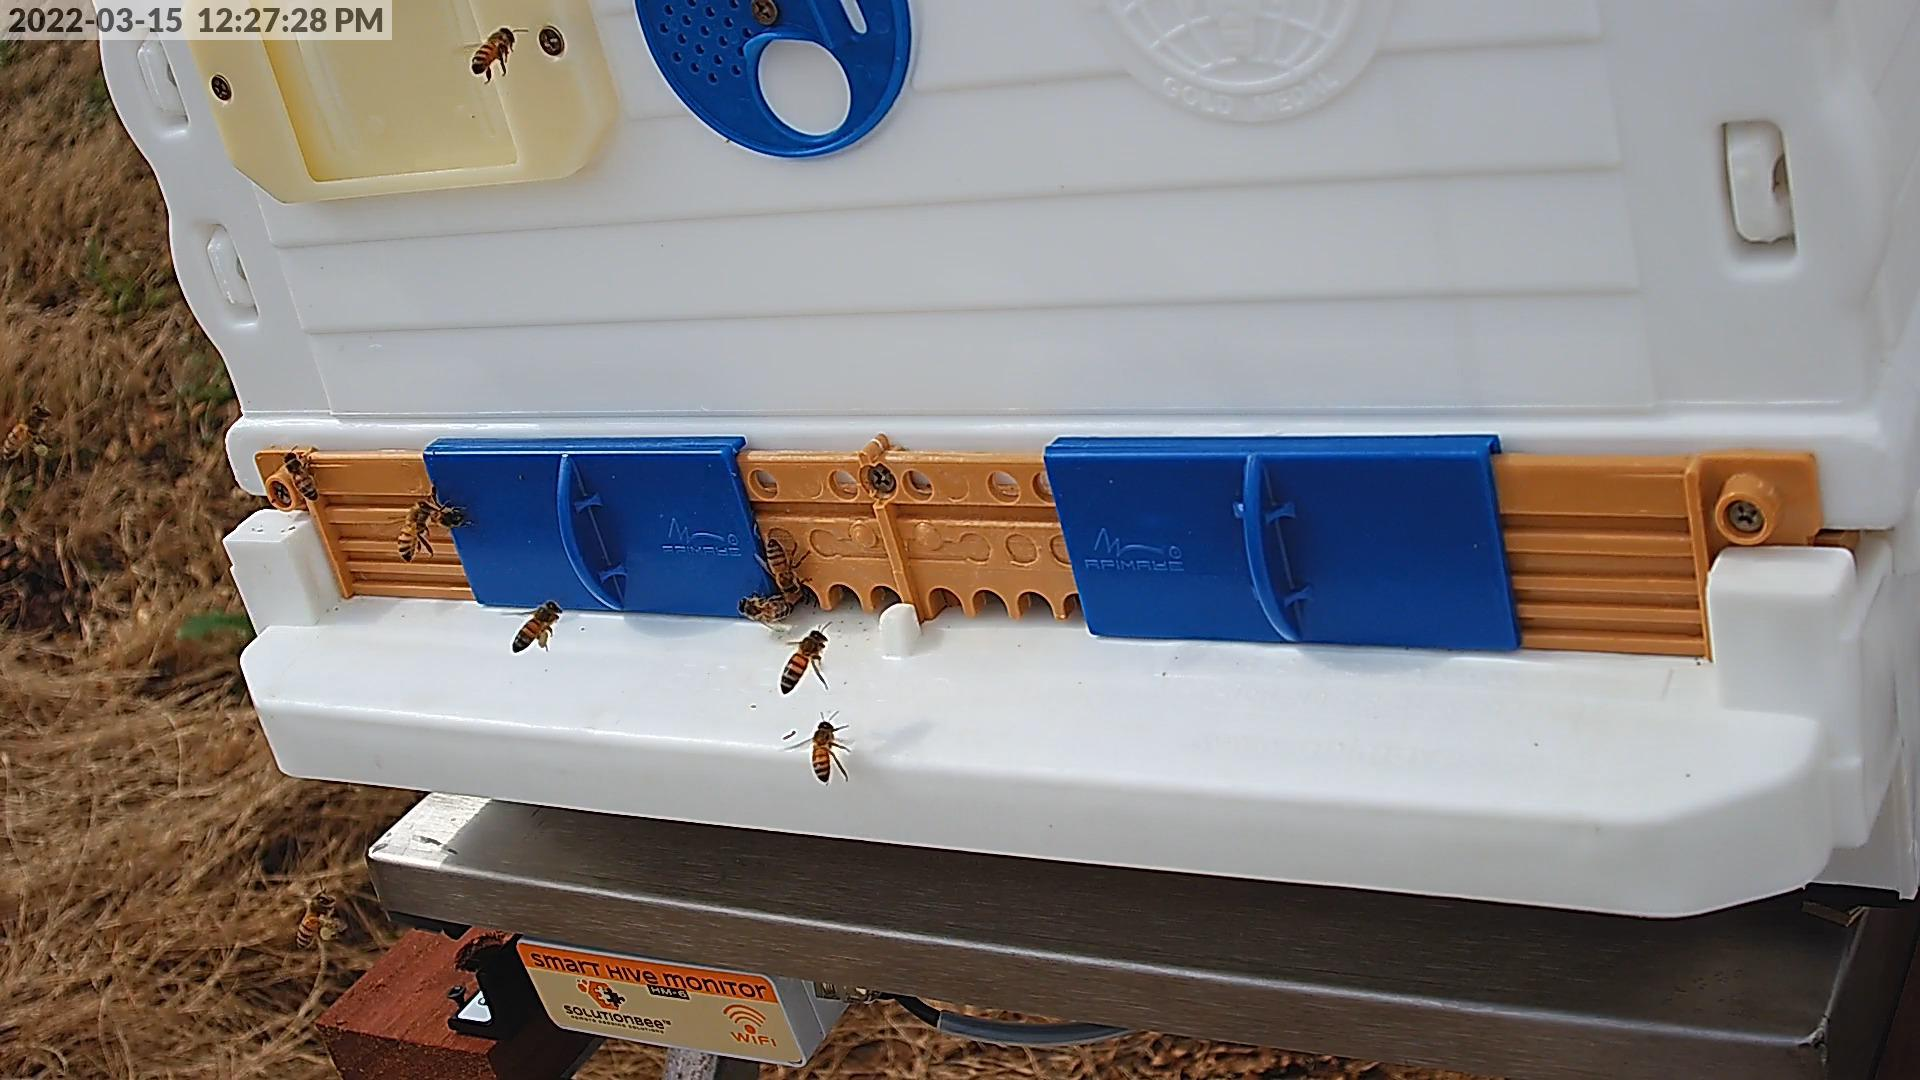bee: (782, 629, 827, 692), (396, 500, 433, 562), (764, 538, 803, 593), (473, 26, 517, 73), (736, 592, 798, 621), (282, 452, 320, 498), (812, 721, 836, 781), (419, 506, 464, 530)
pollenbee: (0, 404, 53, 460), (513, 600, 562, 654), (298, 894, 340, 948)
